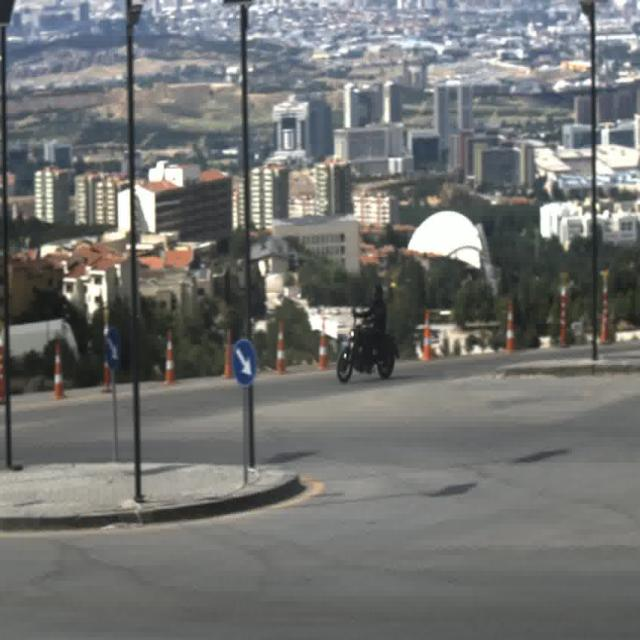Motorcycle: (338, 285, 403, 380)
